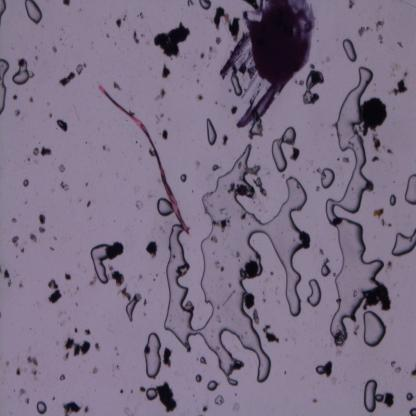Air bubble: (165, 146, 305, 386), (326, 68, 387, 343), (272, 128, 298, 171), (362, 310, 388, 348), (143, 329, 162, 379), (90, 240, 110, 284), (389, 227, 416, 258), (23, 0, 44, 26), (12, 57, 30, 86), (307, 278, 323, 308), (364, 379, 378, 412), (0, 58, 8, 112), (404, 173, 416, 206), (156, 195, 173, 216), (343, 39, 357, 63), (125, 298, 138, 322), (206, 118, 217, 146), (321, 168, 335, 190), (250, 116, 264, 135), (232, 75, 243, 97), (145, 386, 157, 401), (36, 399, 47, 414), (207, 379, 219, 391), (320, 264, 331, 277), (199, 0, 212, 11), (375, 392, 386, 405), (0, 0, 6, 20), (316, 364, 326, 376), (179, 172, 188, 184), (389, 194, 397, 207), (405, 392, 414, 401), (408, 406, 416, 416), (22, 178, 30, 188), (199, 356, 207, 366), (195, 373, 202, 384), (211, 164, 219, 172)
Background material: (153, 21, 191, 58), (360, 97, 387, 137), (302, 69, 324, 104), (157, 381, 179, 415), (212, 4, 230, 35), (64, 338, 91, 356), (262, 325, 281, 344), (105, 241, 124, 259), (212, 217, 231, 233), (145, 240, 159, 260), (253, 177, 267, 197), (228, 183, 248, 197), (244, 258, 258, 278), (229, 16, 239, 43), (392, 78, 407, 96), (299, 231, 312, 251), (62, 402, 82, 415), (110, 270, 126, 286), (60, 72, 76, 87), (118, 286, 132, 303), (243, 292, 256, 310), (162, 347, 173, 368), (48, 290, 64, 303), (384, 390, 394, 410), (153, 88, 166, 102), (160, 63, 172, 78), (3, 269, 13, 287), (372, 134, 381, 153), (56, 118, 68, 132), (357, 25, 371, 37), (391, 360, 402, 375), (40, 146, 53, 158), (379, 218, 392, 230), (214, 260, 225, 274), (252, 308, 260, 326), (290, 146, 300, 160), (47, 278, 58, 290), (27, 356, 38, 368), (112, 80, 123, 92), (214, 394, 225, 406), (155, 112, 165, 125), (372, 208, 385, 218), (184, 299, 194, 312), (28, 231, 38, 244), (195, 92, 205, 104), (134, 199, 144, 211), (376, 20, 386, 32), (132, 30, 140, 45), (60, 180, 70, 192), (11, 235, 20, 248), (325, 362, 332, 378), (348, 1, 358, 12), (365, 180, 374, 192), (38, 213, 47, 225), (75, 64, 84, 75), (353, 323, 360, 337), (32, 146, 40, 158), (124, 408, 136, 416), (63, 272, 72, 282), (384, 147, 394, 156), (38, 226, 48, 235), (233, 402, 240, 414), (221, 134, 228, 146), (378, 32, 384, 46), (370, 155, 380, 163), (161, 129, 168, 140), (16, 366, 22, 378), (410, 368, 416, 380), (210, 236, 218, 245), (84, 327, 92, 336), (31, 368, 38, 378), (52, 46, 59, 56), (63, 352, 70, 362), (61, 1, 72, 7), (187, 0, 195, 8), (58, 374, 66, 382), (230, 105, 238, 113), (10, 217, 18, 225), (19, 388, 26, 397), (215, 36, 222, 45), (207, 44, 214, 53), (14, 109, 21, 118), (58, 164, 65, 173), (28, 96, 34, 106), (84, 404, 90, 414), (215, 314, 221, 324), (47, 110, 53, 120), (139, 385, 146, 393), (318, 248, 325, 256), (142, 296, 147, 307), (86, 200, 92, 209), (93, 366, 99, 375), (122, 13, 128, 22), (95, 343, 101, 352), (200, 51, 206, 60), (12, 93, 18, 102), (116, 18, 121, 28), (323, 258, 330, 265), (18, 282, 25, 289), (202, 404, 208, 412), (241, 212, 247, 220), (20, 246, 26, 254), (25, 398, 31, 405), (397, 42, 403, 49), (105, 33, 111, 39), (84, 183, 90, 189), (74, 327, 79, 334), (388, 262, 392, 270), (140, 12, 144, 20)
Cotton: (99, 83, 191, 233)
Pen: (235, 2, 314, 126)
